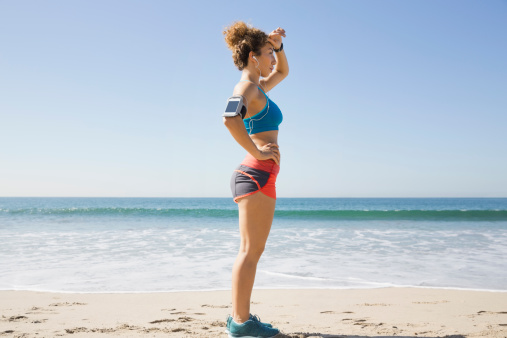em pe: (197, 18, 283, 338)
